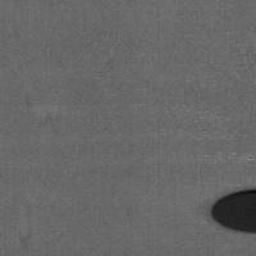Punching: (211, 189, 256, 233)
